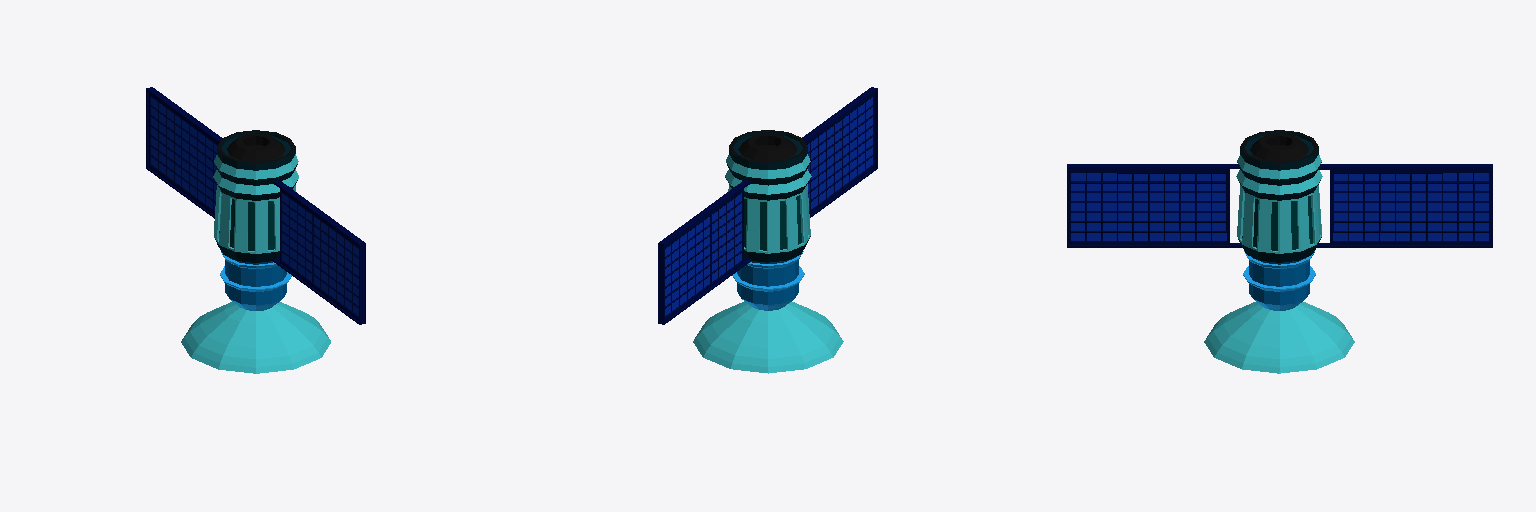
Rendered from satellite01.obj.
3 renders of one model, left to right at view 1: azimuth 30°, elevation 25°; view 2: azimuth 150°, elevation 25°; view 3: azimuth 270°, elevation 25°, orthographic.
Parts seen in each view (by area): view 1: Cylinder; view 2: Cylinder; view 3: Cylinder.
Part boxes in pixels (x1,y1,x2,y2): Cylinder: (146,87,365,373); Cylinder: (658,87,877,373); Cylinder: (1067,130,1492,373).
Bounding box in the file's own units: 6.98 × 11.66 × 19.74.